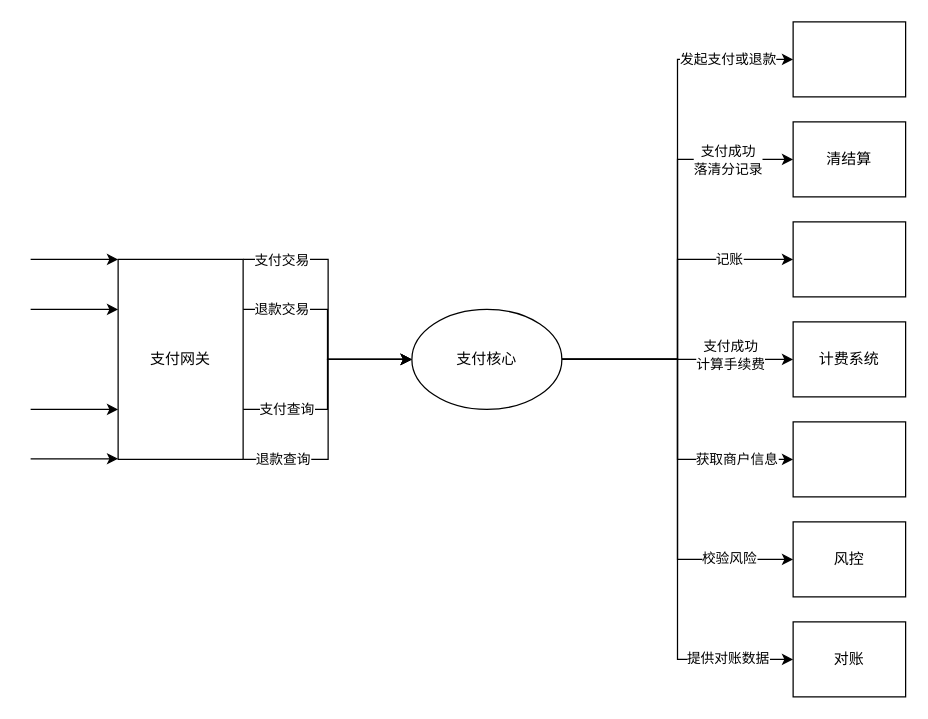
This 928x719 diagram has some shape labels left out. Each missing label, with the centre of its shape:
"商户中心" belongs at pixel 849 459.
"渠道路由" belongs at pixel 849 59.
"账务" belongs at pixel 849 259.
